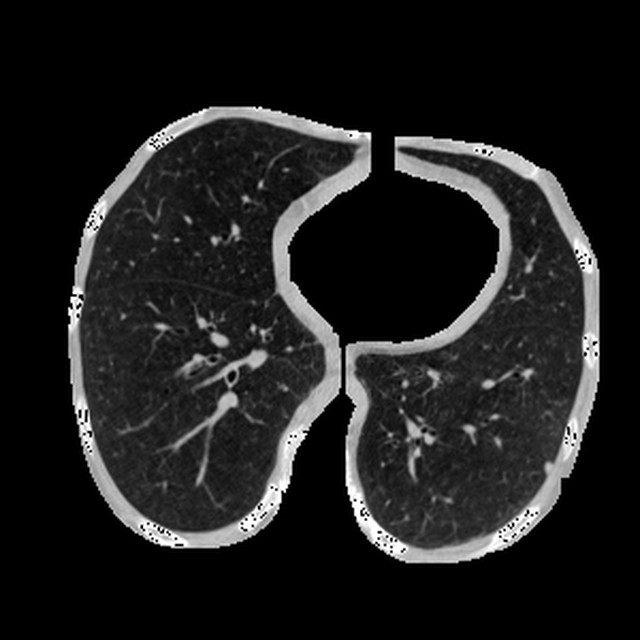PN: (542, 463, 550, 471)
